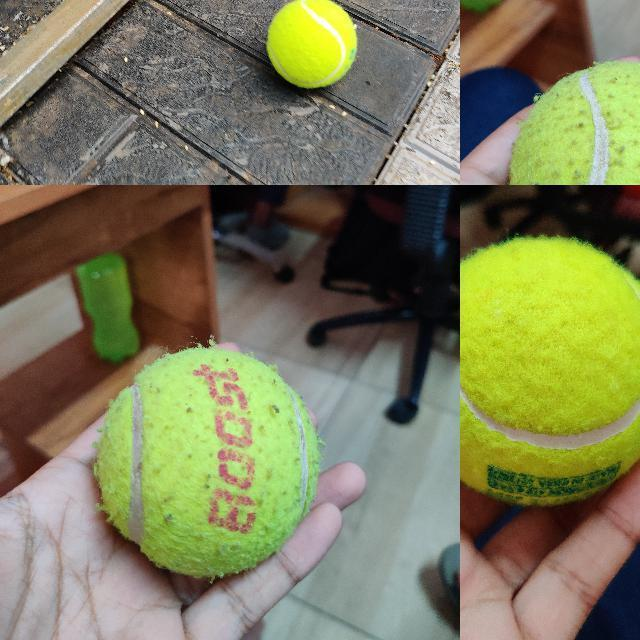tennis-ball: (98, 348, 319, 574), (460, 238, 639, 504), (507, 60, 639, 184), (266, 0, 359, 88)
